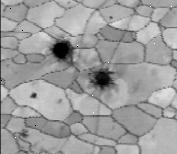good_void: (89, 68, 119, 91), (51, 41, 71, 64), (12, 128, 29, 141), (25, 91, 38, 101), (54, 97, 63, 106), (108, 14, 115, 21)
